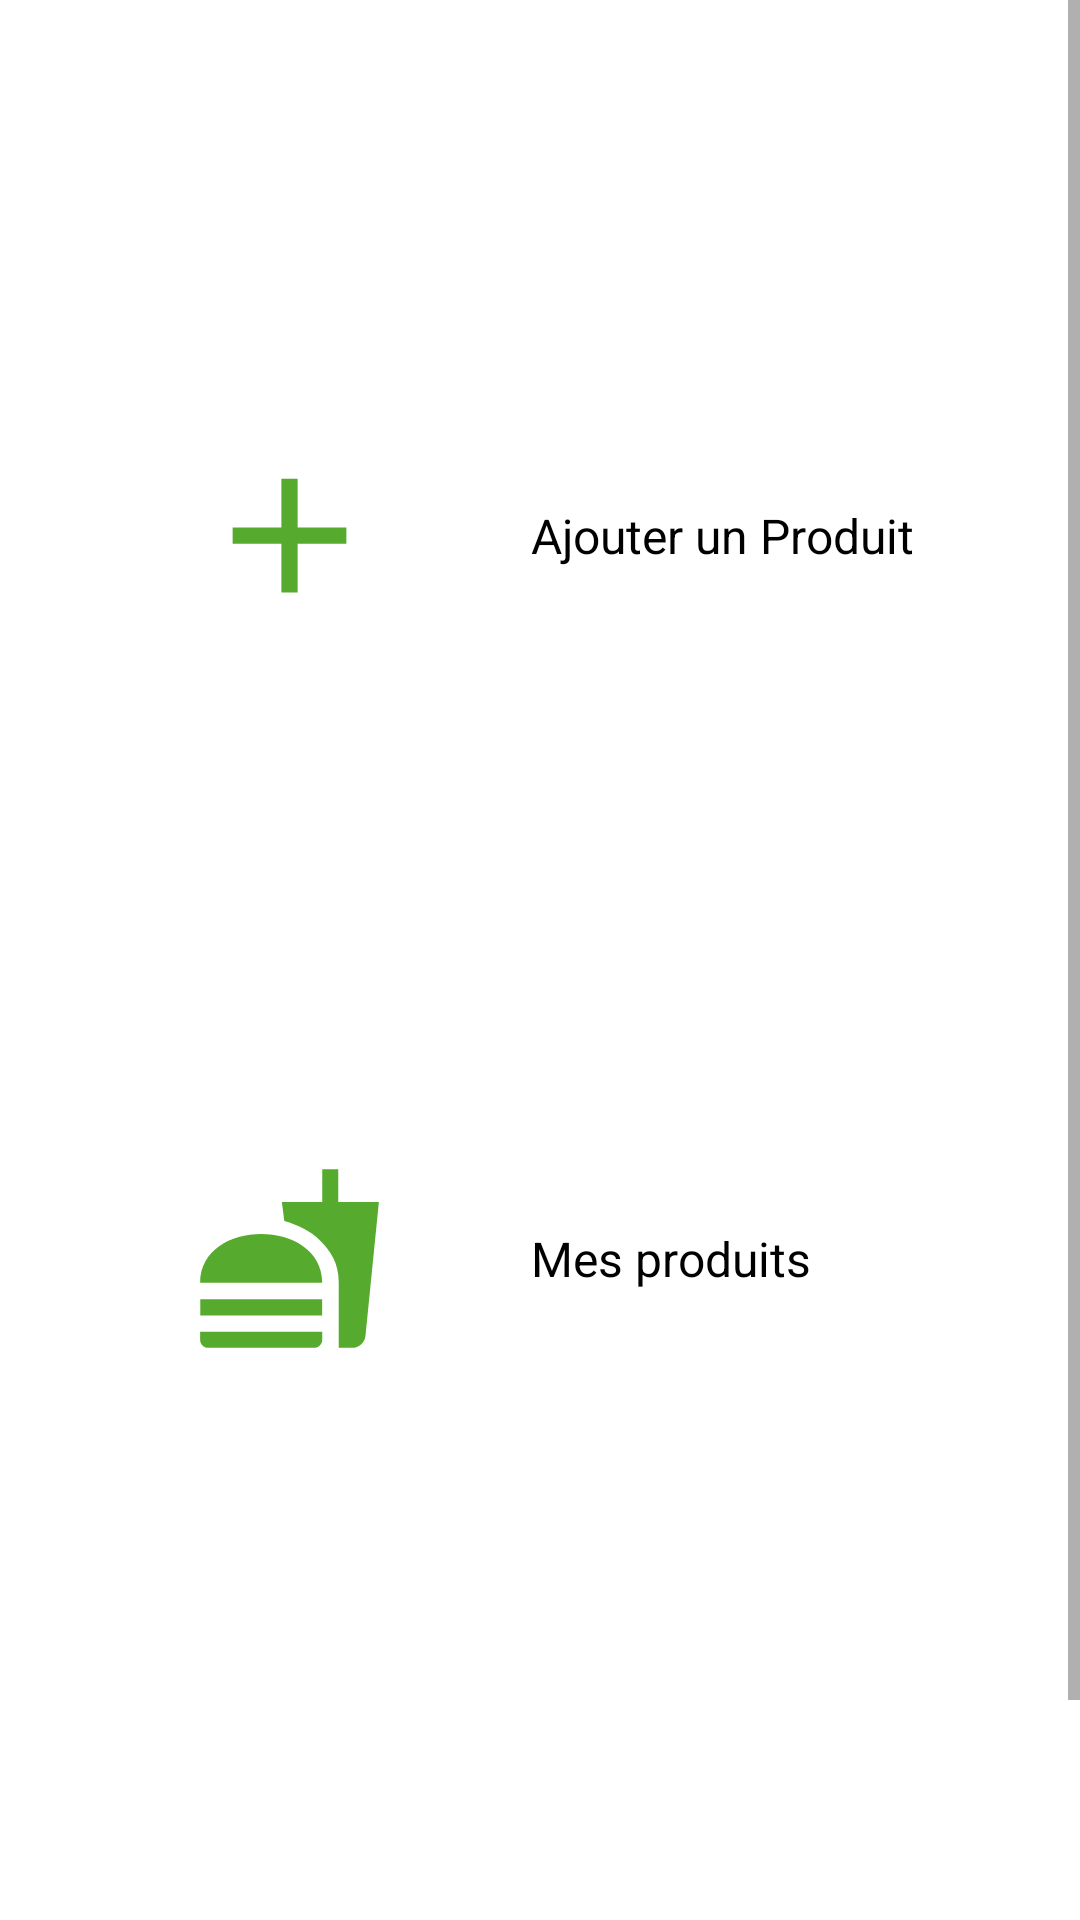

Named icons in this screenshot (1080px×1920px) and their centers, (x=x, y=y):
add: (x=289, y=535)
food: (x=289, y=1258)
